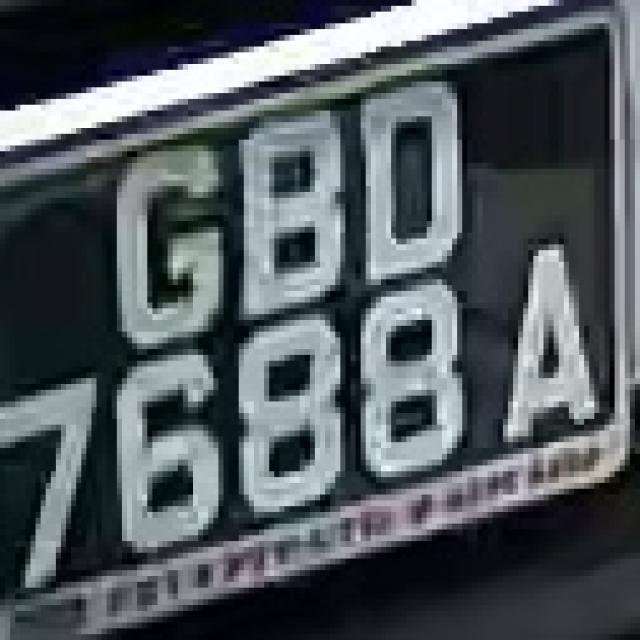6: (112, 343, 228, 553)
7: (10, 367, 107, 599)
8: (224, 326, 356, 524), (346, 291, 468, 494)
A: (492, 215, 610, 448)
B: (214, 99, 356, 320)
D: (346, 64, 478, 285)
G: (96, 128, 234, 361)
